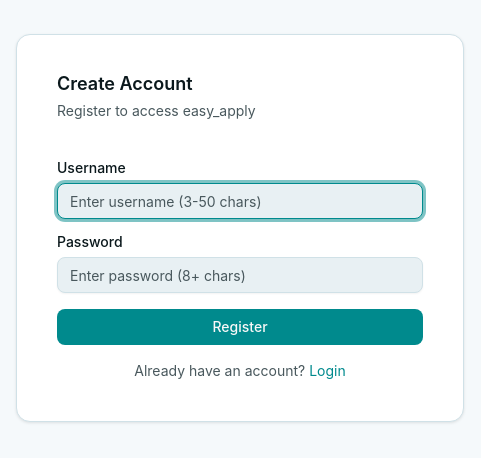
it: RegisterPage › error handling › should display error message on failed registration
The image size is (481, 458).
Step 1. Type "taken" into the field labelled "Username" → (240, 201), box [57,183,423,219]
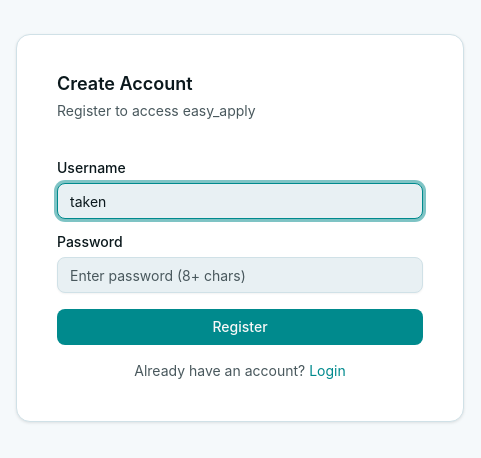
Step 2. Type "password123" into the password field labelled "Password" → (240, 275), box [57,257,423,293]
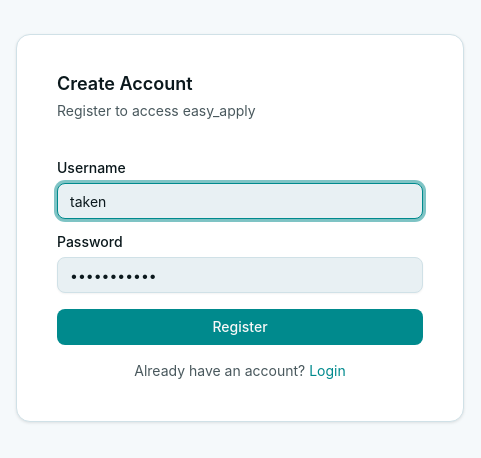
Step 3. Click the button "Register" → (240, 327), box [57,309,423,345]
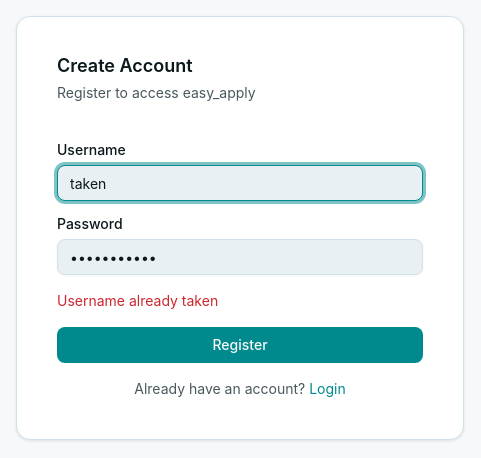
Expected: the message reads "Username already taken", [57,292,218,309]
